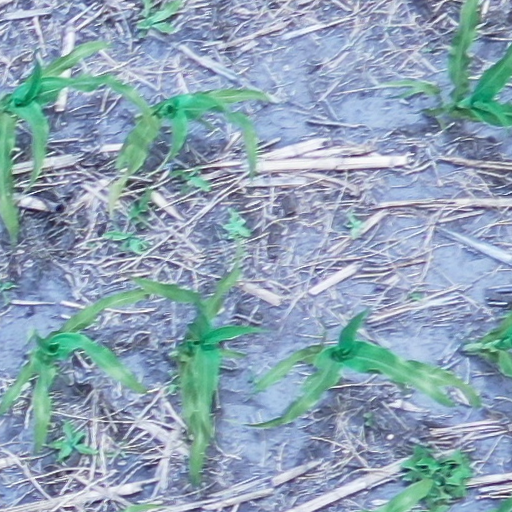planta: (126, 242, 266, 490), (245, 306, 488, 432), (100, 72, 271, 221), (372, 1, 511, 132)
